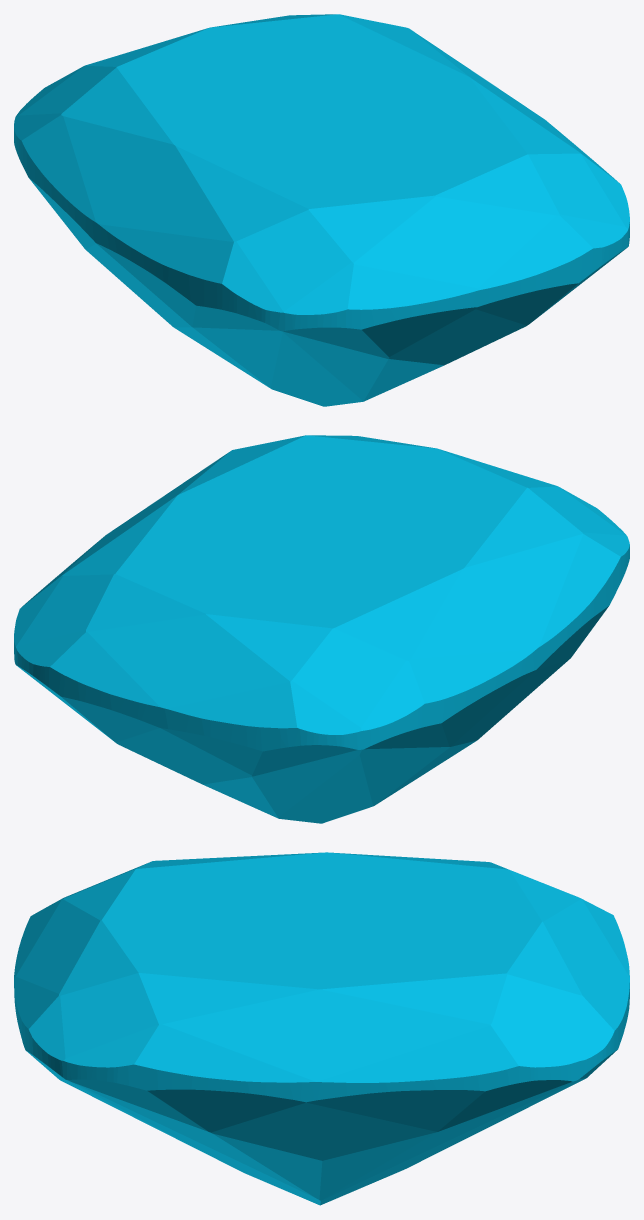
The model's file is Head_Hidden Halo_Elongated Cushion_1.5ct_Diamond.glb.
The picture shows the model from 3 angles, top to bottom: view 1: azimuth 30°, elevation 25°; view 2: azimuth 150°, elevation 25°; view 3: azimuth 270°, elevation 25°; orthographic projection. The views are drawn at different scales.
Bounding box in the file's own units: 0.00574 × 0.00366 × 0.00719.
